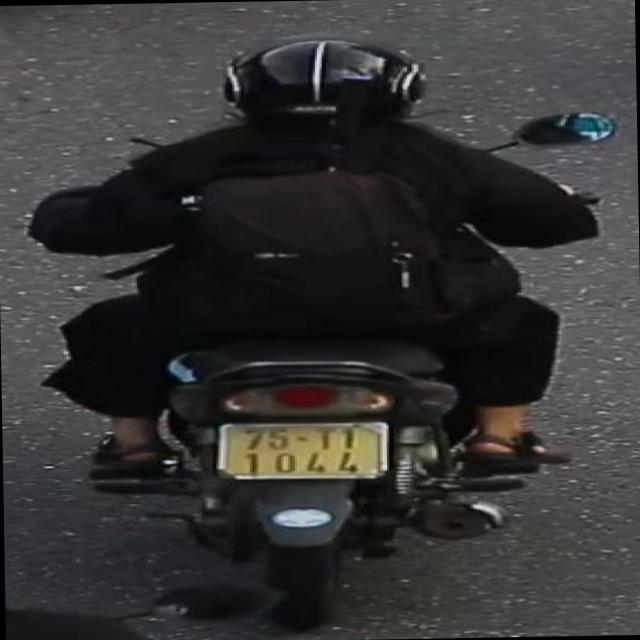LP: (206, 419, 398, 488)
helmet: (216, 32, 427, 144)
